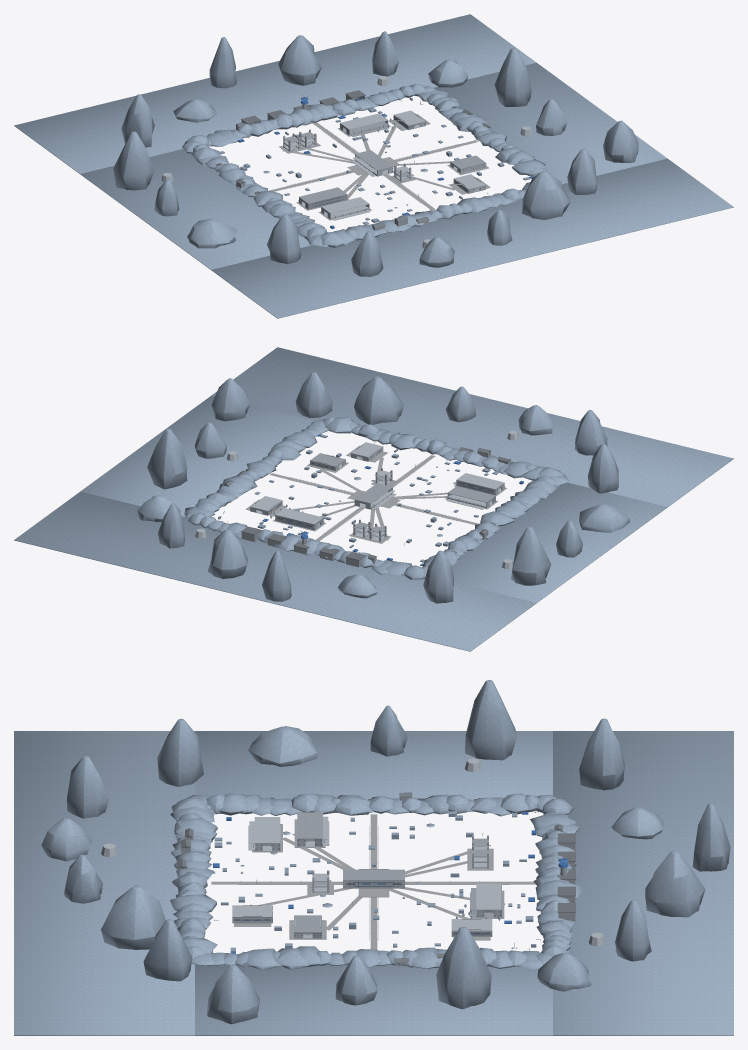
File: setsugen-lod1.glb
3 renders of one model, top to bottom at view 1: azimuth 30°, elevation 25°; view 2: azimuth 150°, elevation 25°; view 3: azimuth 270°, elevation 25°, orthographic. The views are drawn at different scales.
Visible parts, largest first — view 1: HB_setsugen_LOD1_terrain, HB_setsugen_LOD1_wall, HB_setsugen_LOD1_wall_alt, HB_setsugen_LOD1_road, HB_setsugen_LOD1_obstacle, HB_setsugen_LOD1_trim; view 2: HB_setsugen_LOD1_terrain, HB_setsugen_LOD1_wall, HB_setsugen_LOD1_wall_alt, HB_setsugen_LOD1_road, HB_setsugen_LOD1_obstacle, HB_setsugen_LOD1_trim; view 3: HB_setsugen_LOD1_terrain, HB_setsugen_LOD1_wall, HB_setsugen_LOD1_road, HB_setsugen_LOD1_wall_alt, HB_setsugen_LOD1_obstacle, HB_setsugen_LOD1_trim.
Part boxes in pixels (box(x1,y1,x2,y2)): HB_setsugen_LOD1_terrain: box(14, 14, 733, 318); HB_setsugen_LOD1_wall: box(161, 76, 532, 248); HB_setsugen_LOD1_wall_alt: box(216, 95, 490, 230); HB_setsugen_LOD1_road: box(270, 115, 490, 220); HB_setsugen_LOD1_obstacle: box(219, 97, 530, 224); HB_setsugen_LOD1_trim: box(215, 90, 490, 227); HB_setsugen_LOD1_terrain: box(14, 347, 733, 651); HB_setsugen_LOD1_wall: box(195, 430, 519, 569); HB_setsugen_LOD1_wall_alt: box(224, 444, 510, 567); HB_setsugen_LOD1_road: box(246, 446, 505, 543); HB_setsugen_LOD1_obstacle: box(218, 434, 498, 562); HB_setsugen_LOD1_trim: box(223, 442, 514, 566); HB_setsugen_LOD1_terrain: box(14, 680, 733, 1035); HB_setsugen_LOD1_wall: box(101, 758, 605, 946); HB_setsugen_LOD1_road: box(211, 814, 535, 949); HB_setsugen_LOD1_wall_alt: box(177, 796, 575, 966); HB_setsugen_LOD1_obstacle: box(207, 809, 541, 953); HB_setsugen_LOD1_trim: box(176, 792, 575, 965).
Bounding box in the file's own units: 676 × 75.51 × 676.
10 materials, 8 textured.
